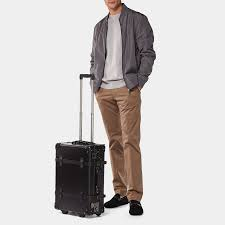suitcase: (53, 72, 106, 219)
